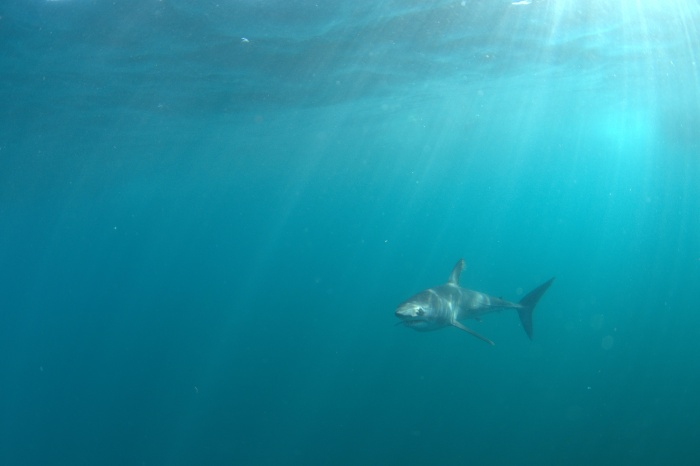Mako: (378, 251, 565, 356)
